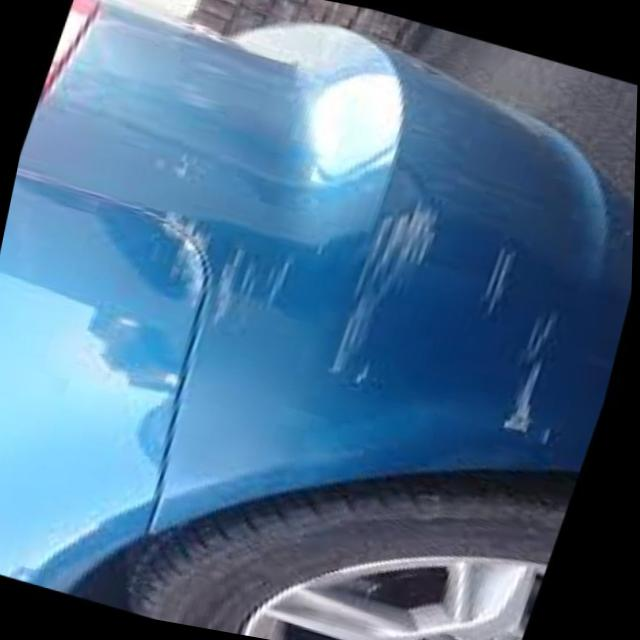Scratch: (105, 164, 591, 457)
